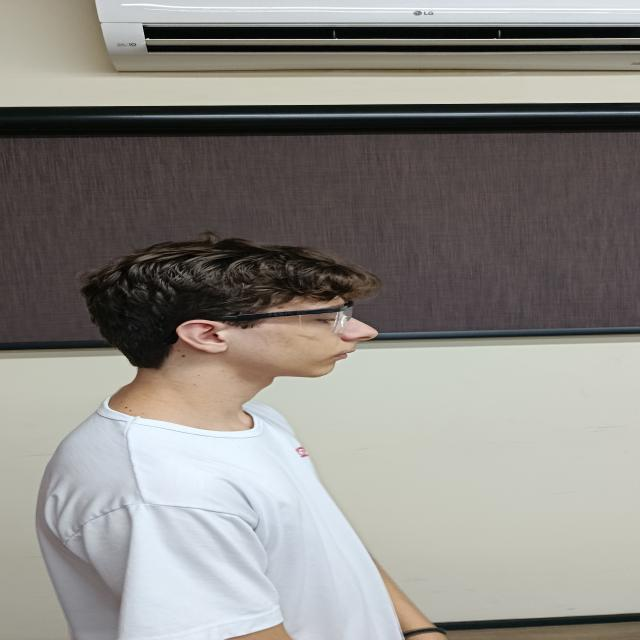oculos-epi: (207, 300, 355, 334)
